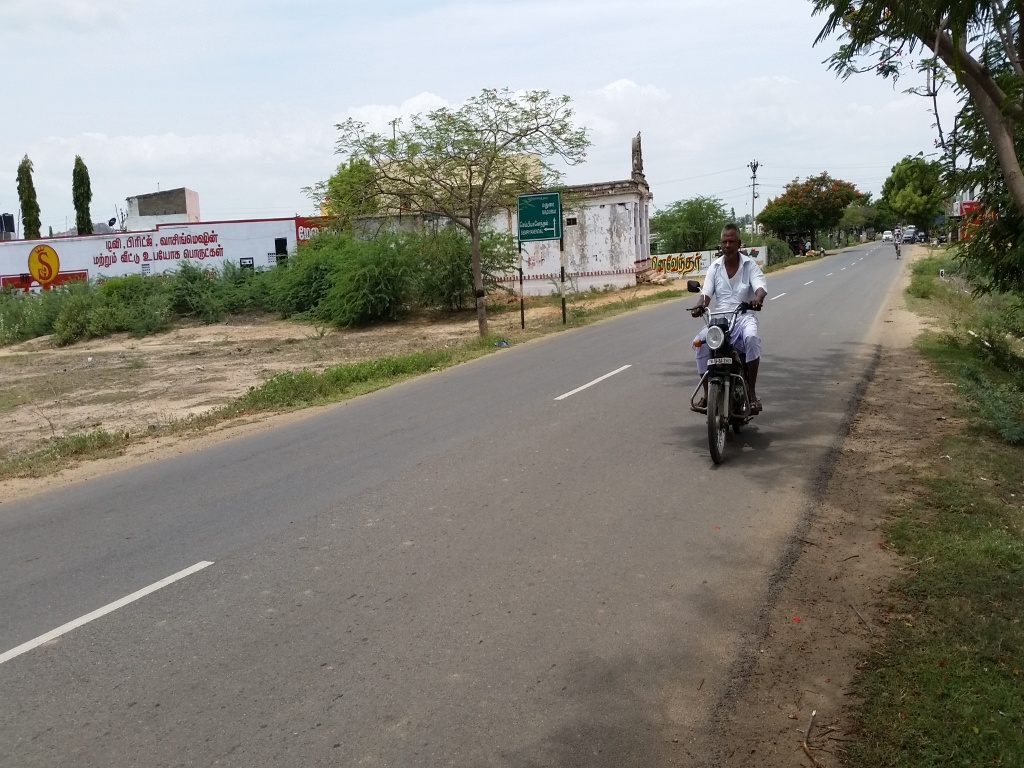biker: (623, 193, 821, 480)
nohelmet: (712, 216, 750, 276)
